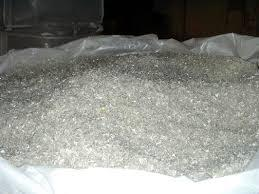Plastic shavings: (1, 42, 259, 184)
